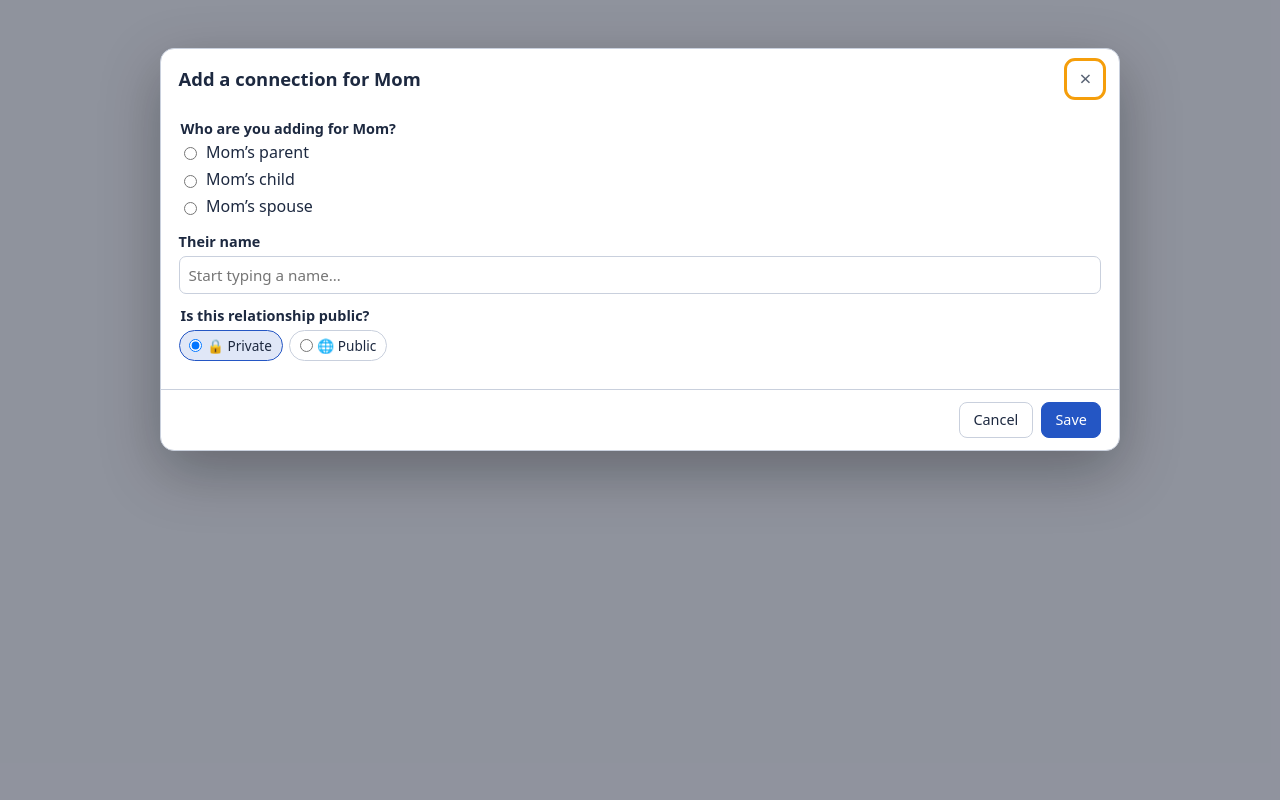
Test case: adding a child or parent › preselects mother or father from the parent's recorded gender
Click the radio button labelled "Mom’s child". click: (190, 181)
box: [184, 174, 197, 188]
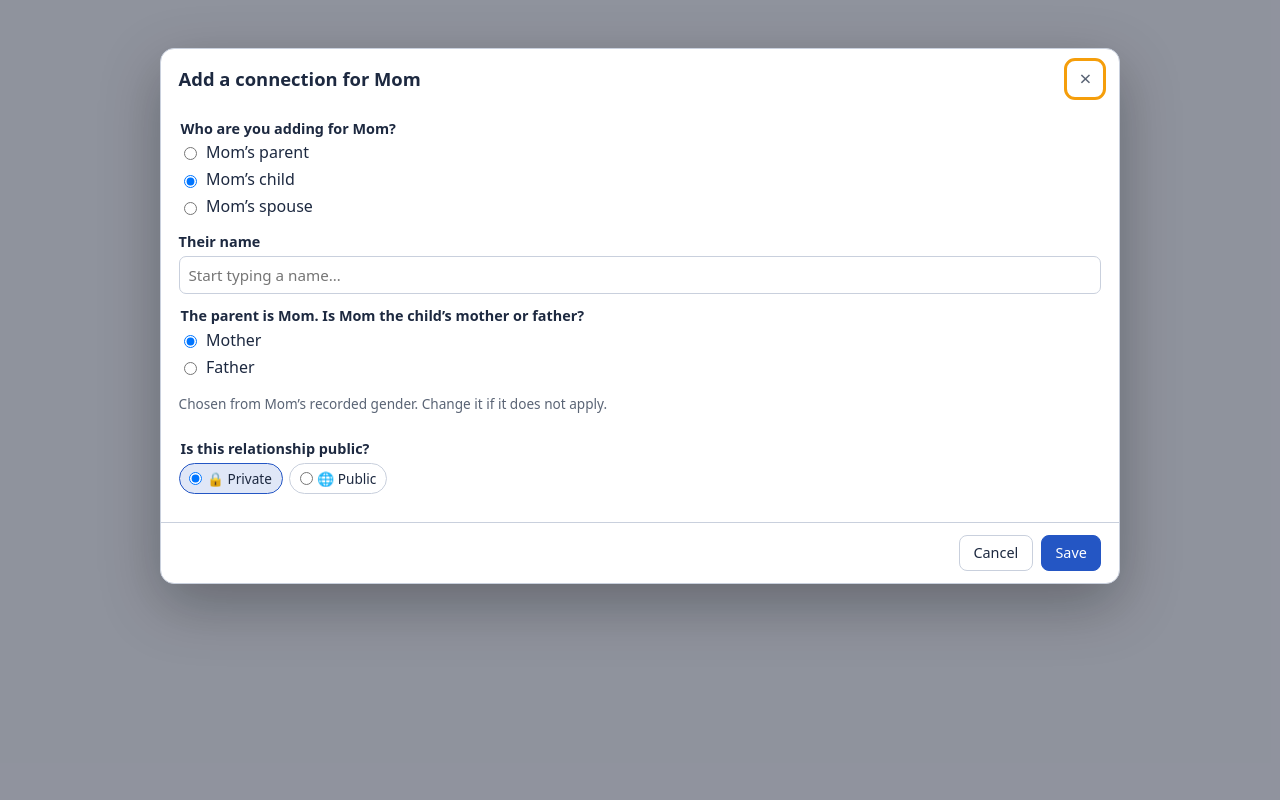
Check: the text "Chosen from Mom’s recorded gender" is shown, box [179, 394, 607, 413]
